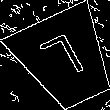L_SE: (38, 30, 93, 90)
